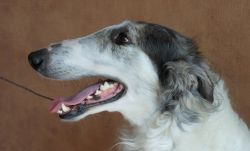borzoi: (27, 20, 249, 147)
